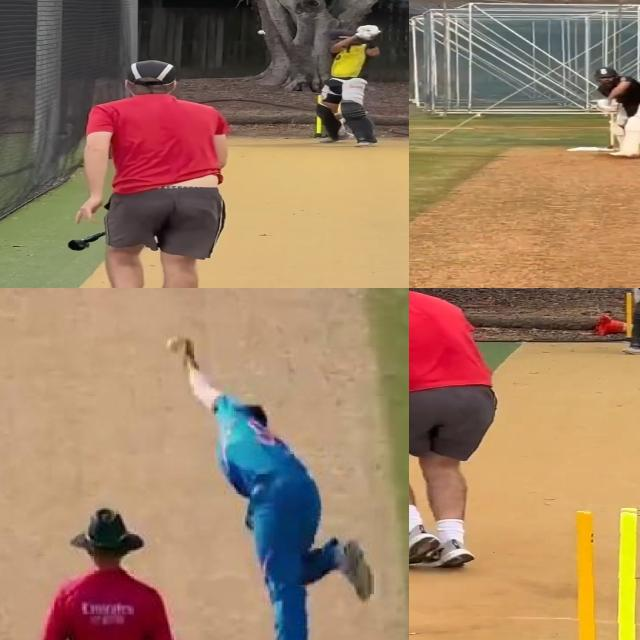Cricket ball: (167, 334, 182, 354), (256, 29, 268, 36), (606, 144, 613, 149)
Stumps: (561, 506, 640, 640)
